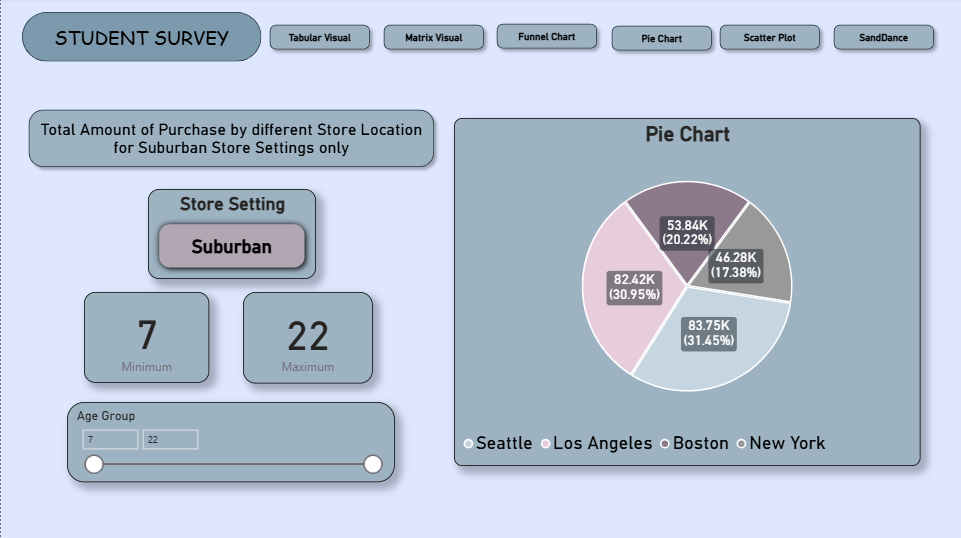

Layout of this report page (visuals, bound fields, positions):
{"tool":"powerbi","page":{"name":"Pie Chart","canvas":[1280,720],"ordinal":3},"visuals":[{"type":"pieChart","title":"Pie Chart","fields":{"Y":["Sum(Student Survey.Total Amount of Purchases)"],"Category":["Student Survey.Store Location"]},"box":[603.4,160.4,621.7,464.2],"z":0},{"type":"shape","box":[804.3,27.3,151.4,50.9],"z":1000,"group":"g2"},{"type":"card","fields":{"Values":["Min(Student Survey.Age)"]},"box":[111.1,392.4,167.4,121],"z":1000},{"type":"card","fields":{"Values":["Max(Student Survey.Age)"]},"box":[322.1,392.4,173,122.4],"z":2000},{"type":"shape","title":"Store Setting","box":[195.5,254.6,223.6,119.6],"z":3000},{"type":"slicer","title":"Age Group","fields":{"Values":["Student Survey.Age"]},"box":[88.6,538.7,437.5,106.9],"z":4000},{"type":"group","id":"g1","title":"Group 2","box":[348.8,25.3,903,52],"z":5000},{"type":"shape","box":[348.8,26.7,151.4,50.9],"z":5000,"group":"g1"},{"type":"shape","box":[948.9,26.7,151.4,50.9],"z":6000,"group":"g1"},{"type":"shape","box":[28.1,140.7,558.4,94.2],"z":6000},{"type":"shape","box":[28.1,18.3,319.3,66.1],"z":7000},{"type":"shape","box":[1100.3,26.7,151.4,50.9],"z":7000,"group":"g1"},{"type":"shape","box":[500.2,26.7,151.4,50.9],"z":8000,"group":"g1"},{"type":"shape","box":[651.6,25.3,151.4,50.9],"z":9000,"group":"g1"},{"type":"group","id":"g2","title":"Group 1","box":[804.3,27.3,151.4,50.9],"z":10000,"group":"g1"}]}

Visuals, with their boxes in screenshot pixels (x1, y1, x2, y2), scaled from the page's 1280x720 canvas onto the 961x538 screenshot:
"Pie Chart" pieChart: rect(453, 120, 920, 467)
shape: rect(604, 20, 718, 58)
card - Min(Student Survey.Age): rect(83, 293, 209, 384)
card - Max(Student Survey.Age): rect(242, 293, 372, 385)
"Store Setting" shape: rect(147, 190, 315, 280)
"Age Group" slicer: rect(67, 403, 395, 482)
"Group 2" group: rect(262, 19, 940, 58)
shape: rect(262, 20, 376, 58)
shape: rect(712, 20, 826, 58)
shape: rect(21, 105, 440, 176)
shape: rect(21, 14, 261, 63)
shape: rect(826, 20, 940, 58)
shape: rect(376, 20, 489, 58)
shape: rect(489, 19, 603, 57)
"Group 1" group: rect(604, 20, 718, 58)
